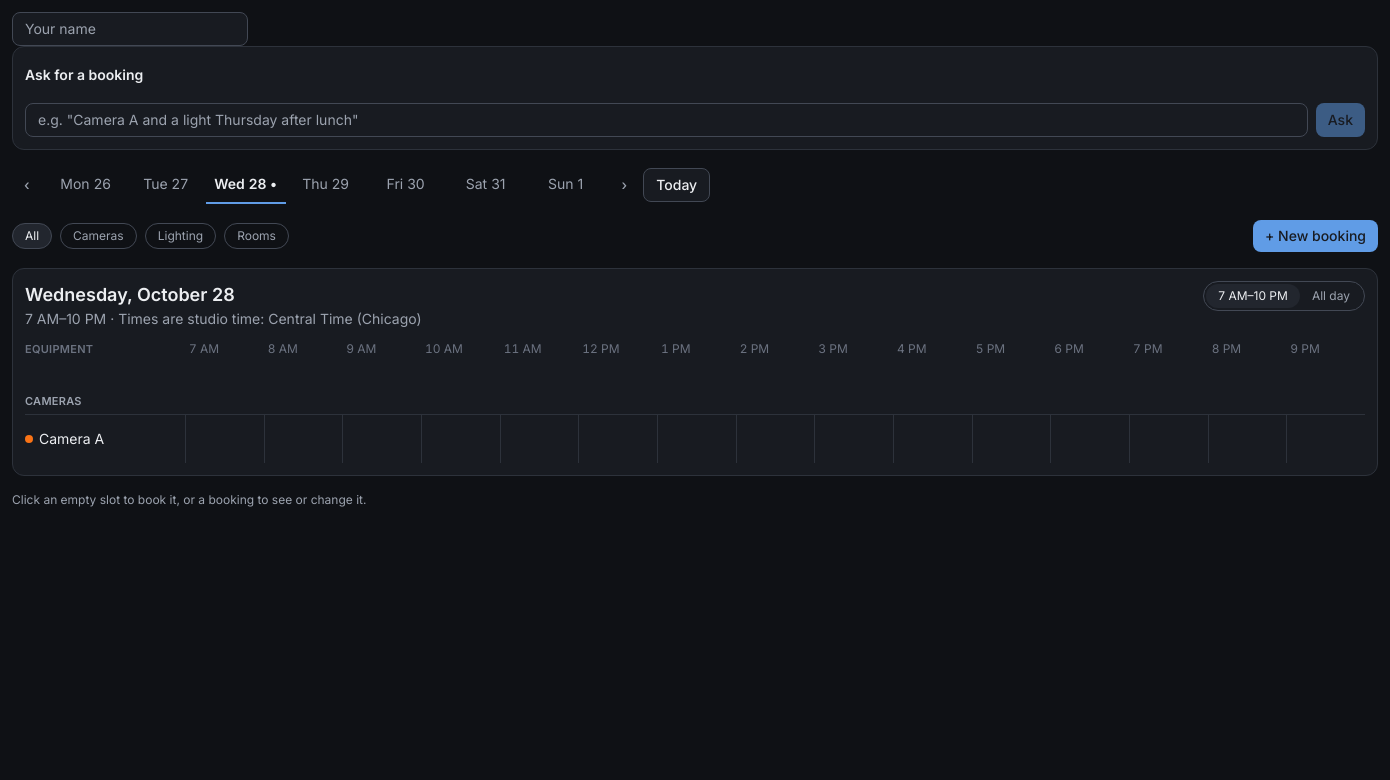
Test: AssistantPanel › labels questions with the name they were sent under
Step 1. Type "Sam K" into the field named "Booking as" → (130, 29), box [12,12,248,46]
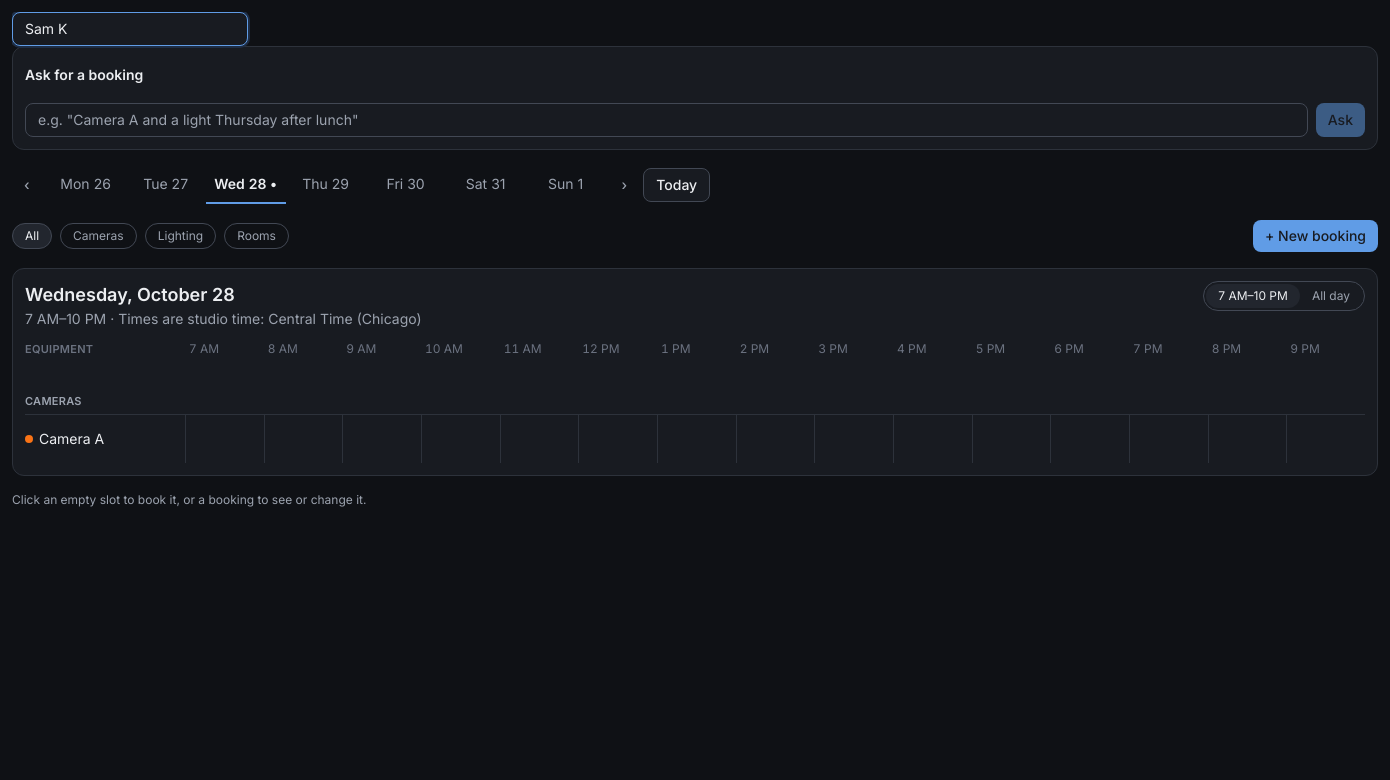
Step 2. Type "Camera A Thursday" into the field named "Ask the booking assistant" → (666, 120), box [25,103,1308,137]
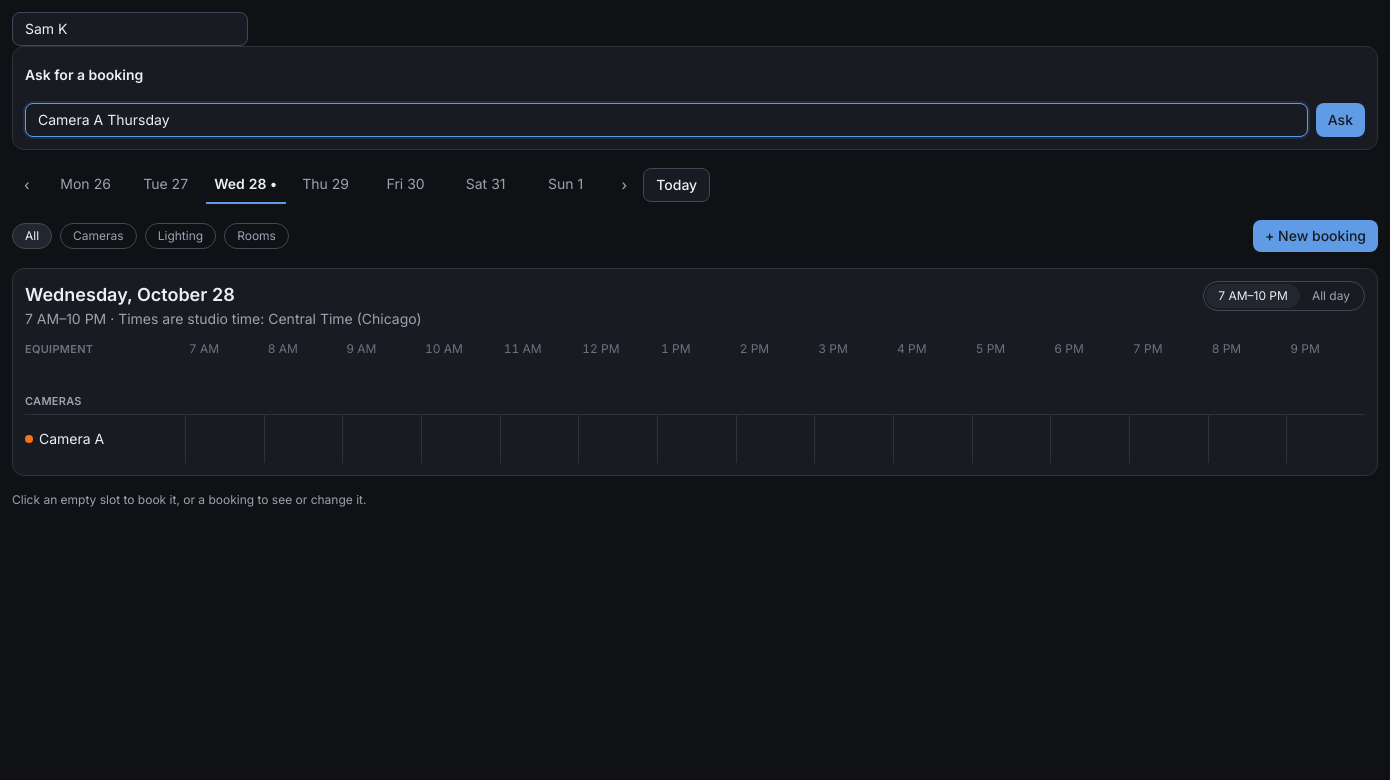
Step 3. Click the button "Ask" → (1340, 120), box [1316,103,1365,137]
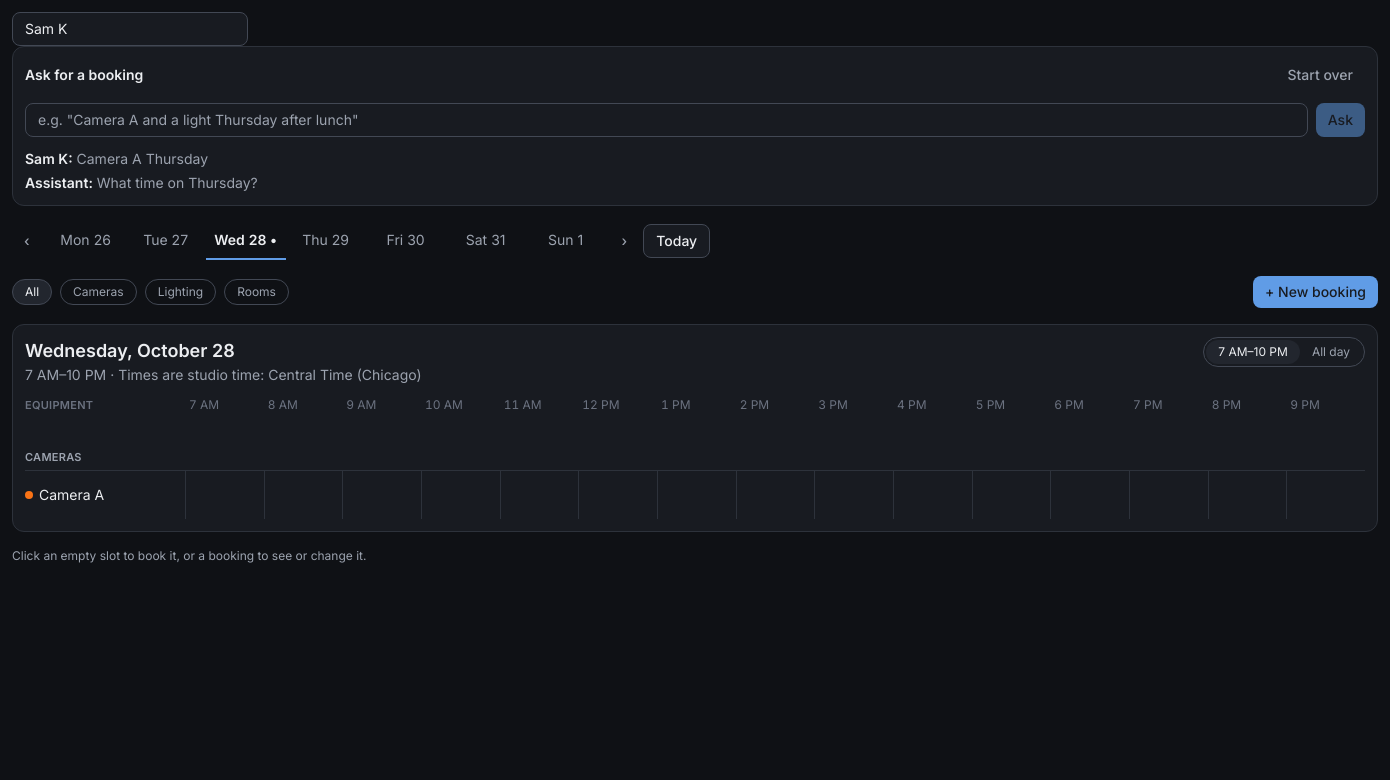
Expected: the text "What time on Thursday?" is shown, [97,174,258,191]
Step 4. Replace the text in the field named "Booking as" with "Ana" → (130, 29), box [12,12,248,46]
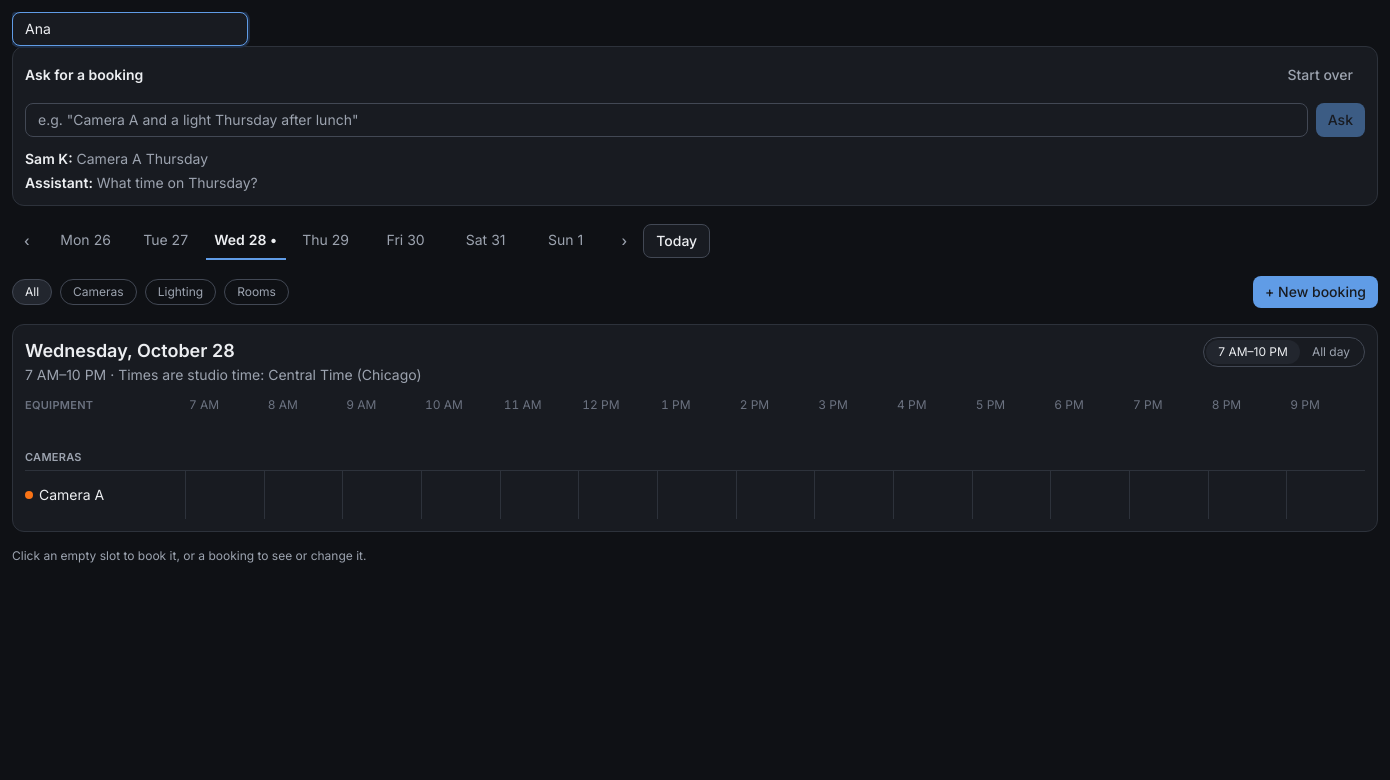
Step 5. Type "Camera B Thursday" into the field named "Ask the booking assistant" → (666, 120), box [25,103,1308,137]
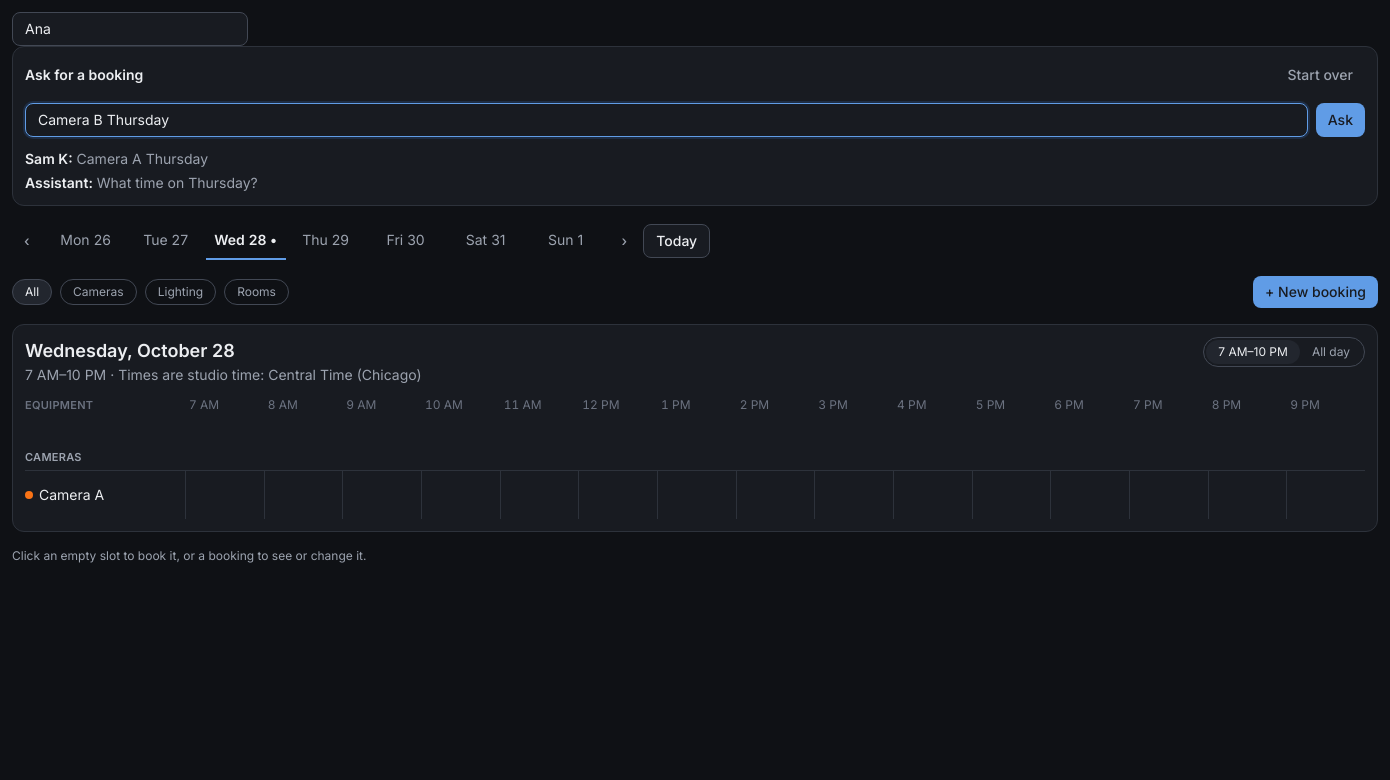
Step 6. Click the button "Ask" → (1340, 120), box [1316,103,1365,137]
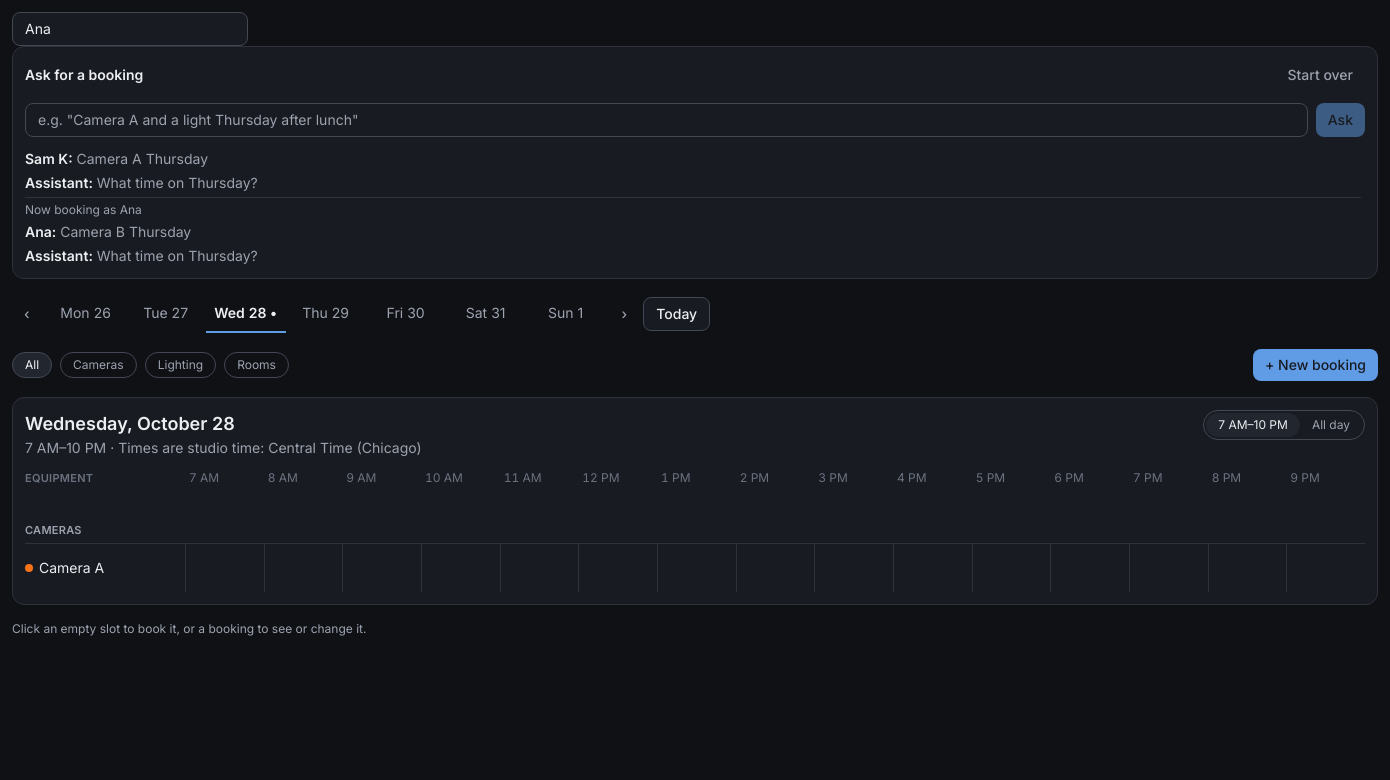
Expected: the text "Camera B Thursday" is shown, [60,223,191,240]
